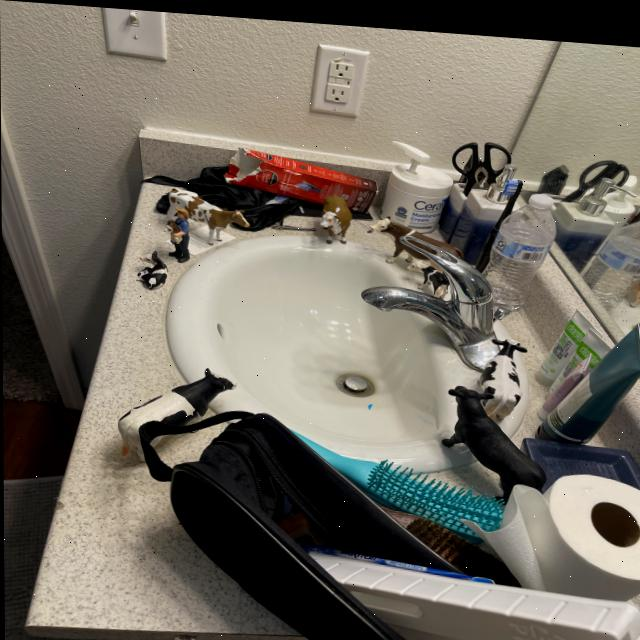cow: (420, 364, 551, 513), (104, 349, 241, 466), (362, 205, 466, 275), (157, 182, 252, 252), (476, 330, 526, 416), (400, 249, 455, 297), (314, 188, 356, 242), (130, 248, 174, 292), (163, 215, 184, 238)
person: (174, 205, 190, 260)
